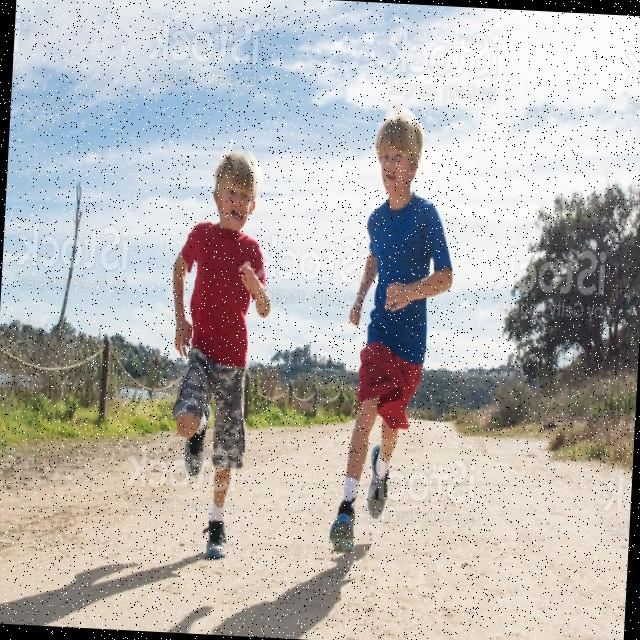Person: (329, 112, 461, 555), (159, 147, 280, 564)
